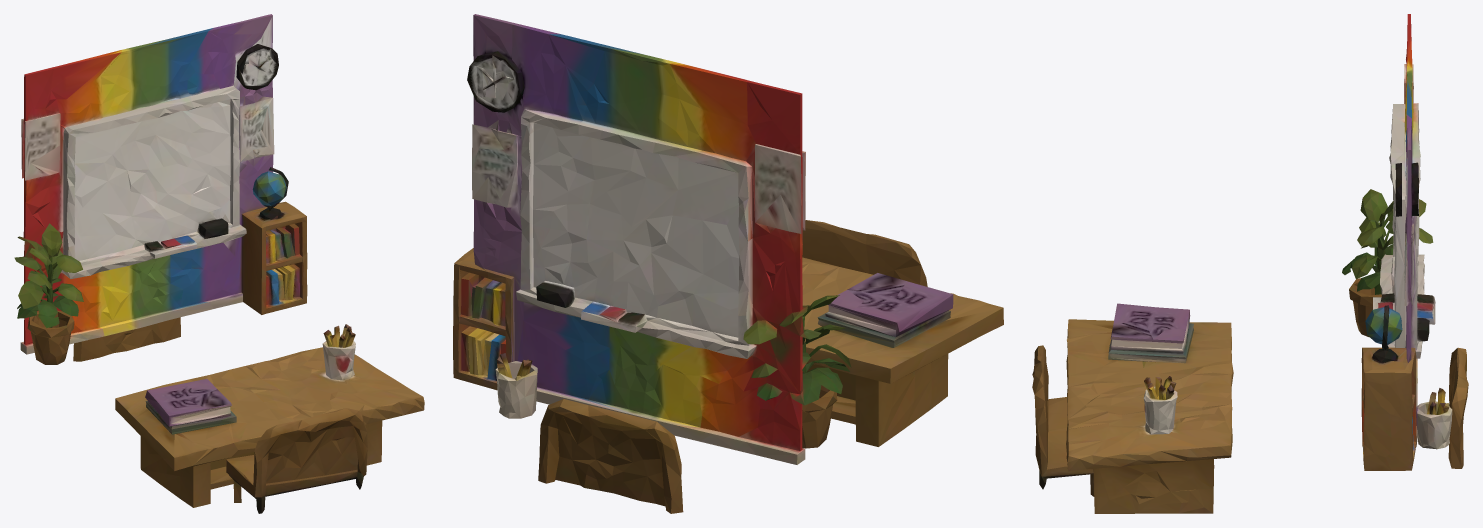
The model's file is classroom-wall.glb.
3 renders of one model, left to right at view 1: azimuth 30°, elevation 25°; view 2: azimuth 150°, elevation 25°; view 3: azimuth 270°, elevation 25°, orthographic. The views are drawn at different scales.
Visible parts, largest first — view 1: classroom-wall; view 2: classroom-wall; view 3: classroom-wall.
Boxes of the visible parts, x1,y1,x2,y2 form: classroom-wall: [14, 14, 424, 513]; classroom-wall: [453, 14, 1003, 513]; classroom-wall: [1032, 14, 1468, 513].
Bounding box in the file's own units: 0.8297 × 0.9587 × 0.9808.
Materials: 1 (1 with a texture image).
